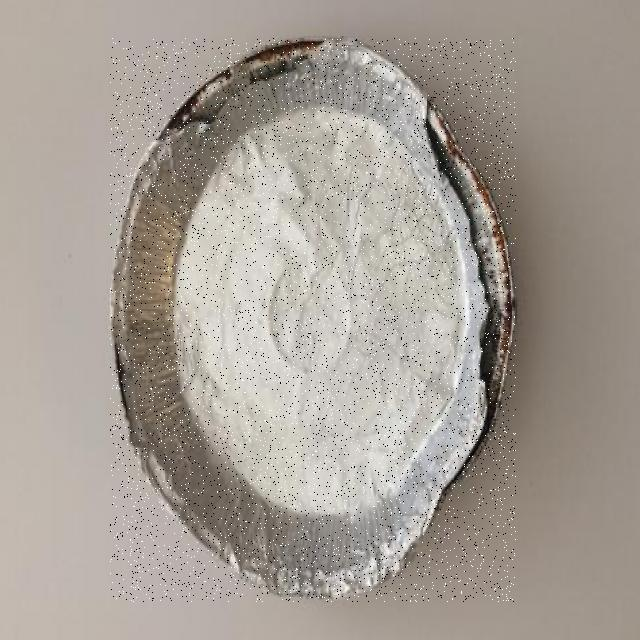metal: (111, 38, 516, 602)
